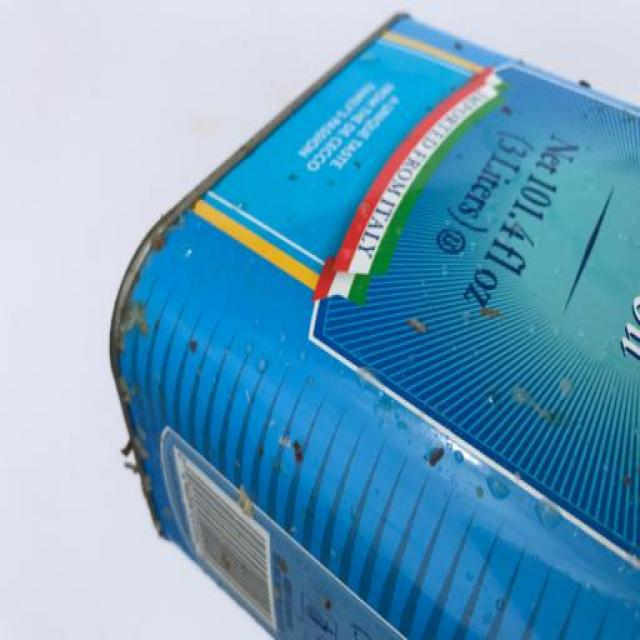metel: (112, 12, 640, 640)
